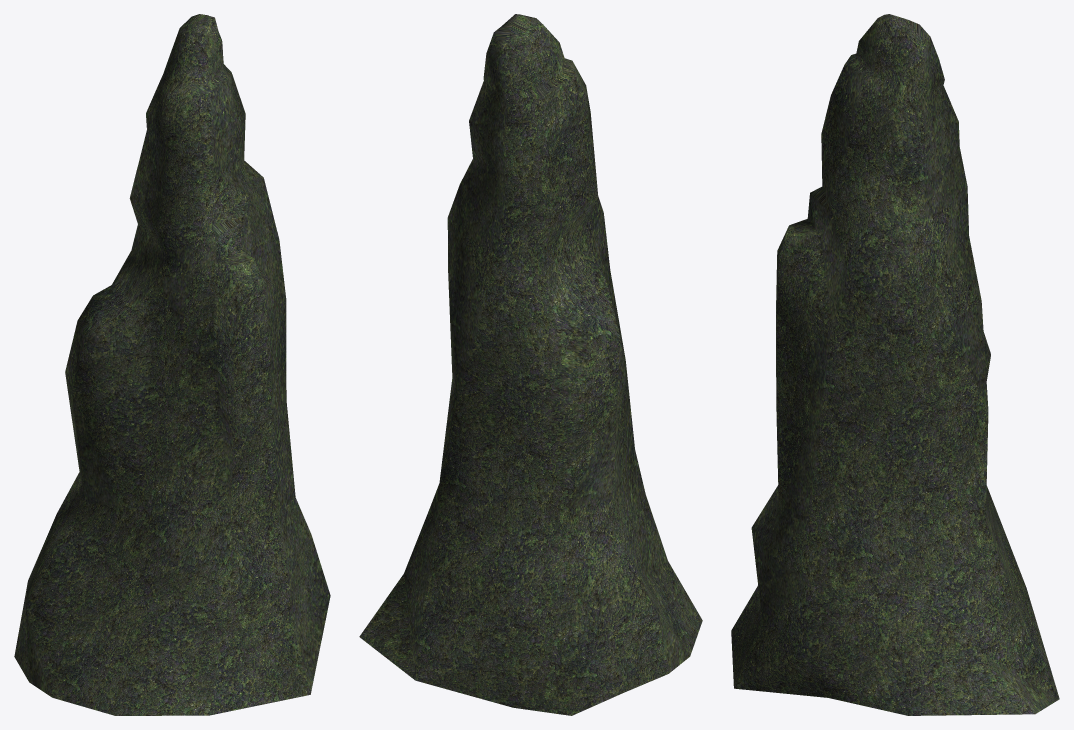
File: rock_pillar_03.fbx
3 views of the same model, side by side, from view 1: azimuth 30°, elevation 25°; view 2: azimuth 150°, elevation 25°; view 3: azimuth 270°, elevation 25° (orthographic). The views are drawn at different scales.
Parts seen in each view (by area): view 1: rock_pillar_03; view 2: rock_pillar_03; view 3: rock_pillar_03.
Part boxes in pixels (x1,y1,x2,y2): rock_pillar_03: (14,14,330,715); rock_pillar_03: (359,14,702,715); rock_pillar_03: (731,14,1059,715).
Size of the model in its own units: 26.8 by 60.34 by 26.12.
